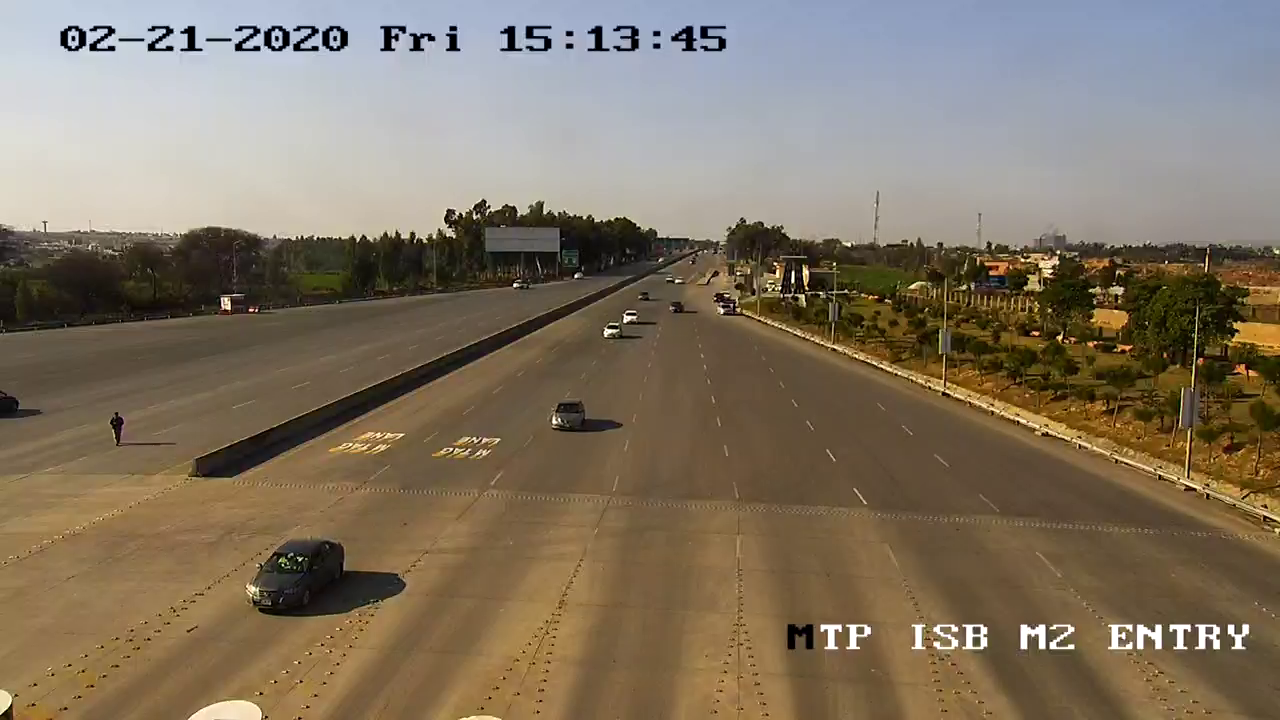f1: (242, 530, 352, 621), (542, 395, 595, 443)
